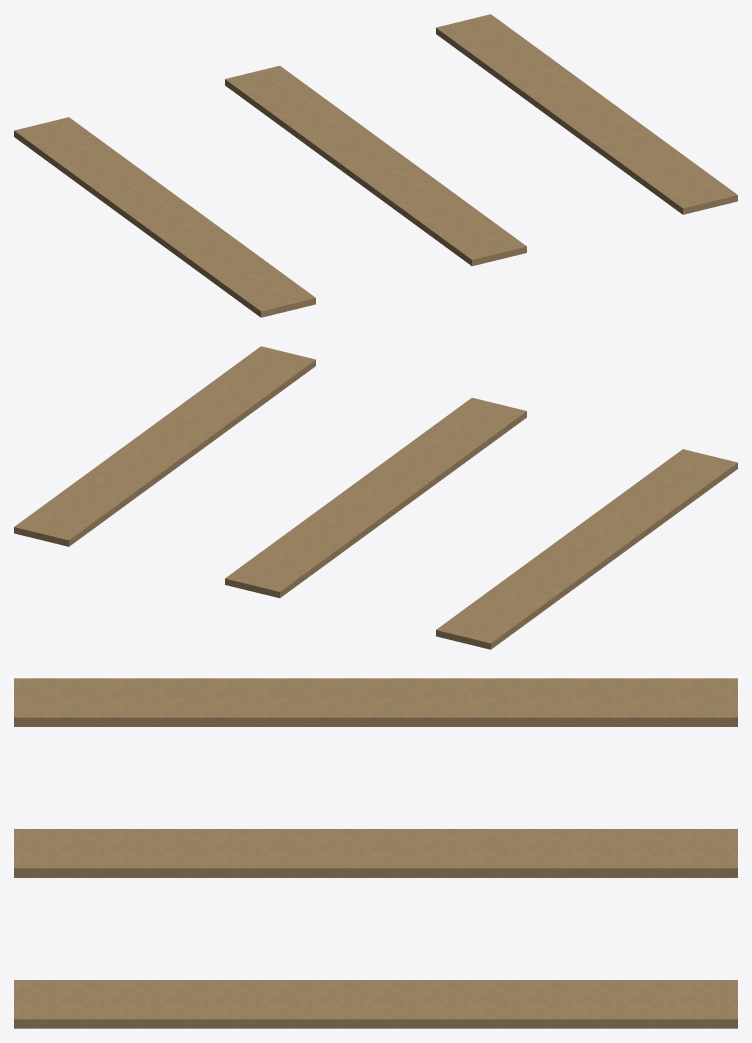
File: yong-ground-LOD1.glb
3 renders of one model, top to bottom at view 1: azimuth 30°, elevation 25°; view 2: azimuth 150°, elevation 25°; view 3: azimuth 270°, elevation 25°, orthographic. The views are drawn at different scales.
Visible parts, largest first — view 1: yong_ground_C; view 2: yong_ground_C; view 3: yong_ground_C.
Boxes of the visible parts, x1,y1,x2,y2 form: yong_ground_C: (14,14,737,317); yong_ground_C: (14,346,737,649); yong_ground_C: (14,678,737,1028).
Bounding box in the file's own units: 15.6 × 0.201 × 14.
1 material, 1 textured.
